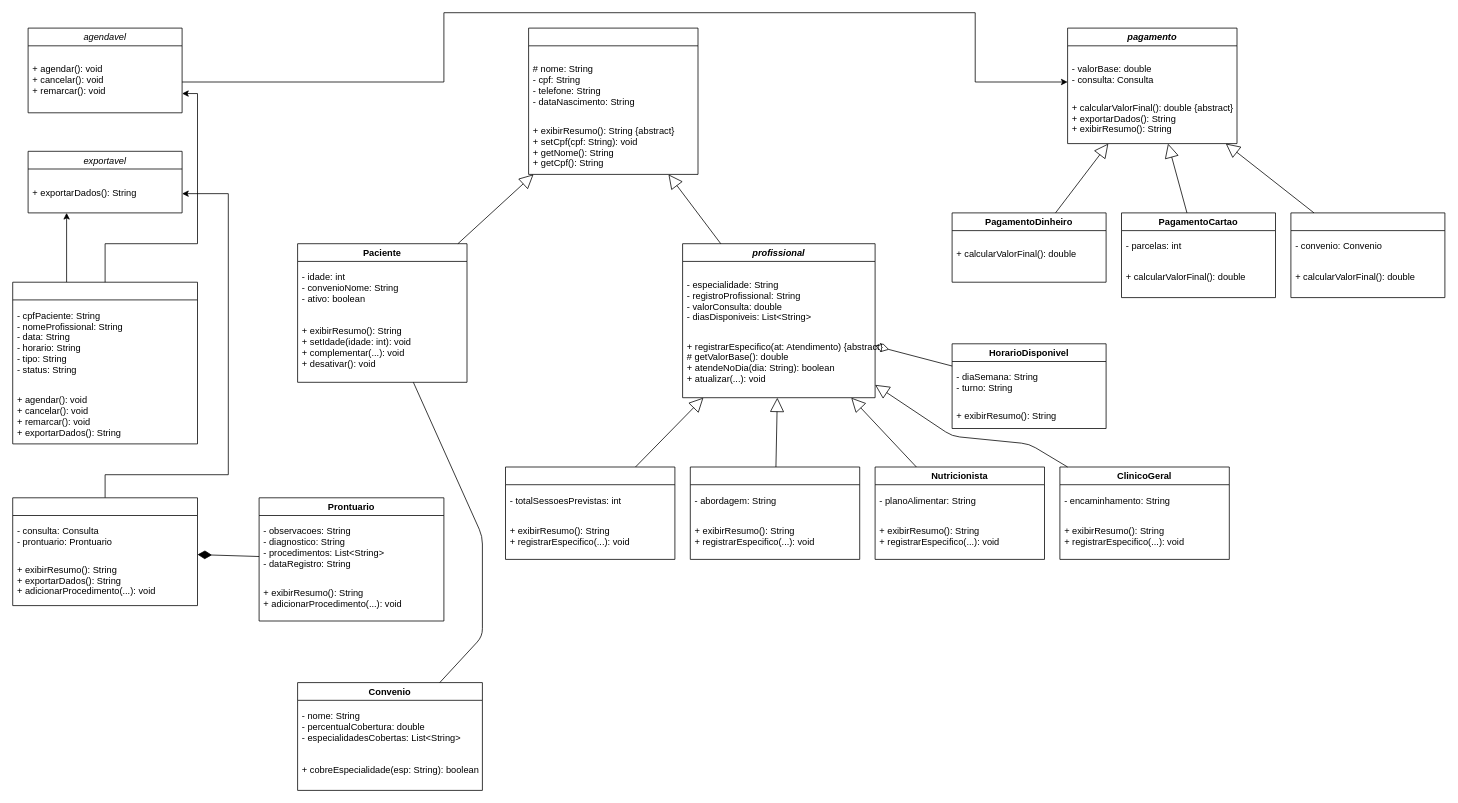
Some shapes in this 1458 by 803 pixel diagram are drawn without their labels. Here are the shapes that lost their labels. From the top down, the box of each, then its label:
(528, 27, 698, 174): pessoa
(1290, 212, 1445, 298): PagamentoConvenio
(12, 281, 198, 444): Consulta
(505, 466, 675, 559): Fisioterapeuta
(690, 466, 860, 559): Psicologo
(12, 497, 198, 606): Atendimento
